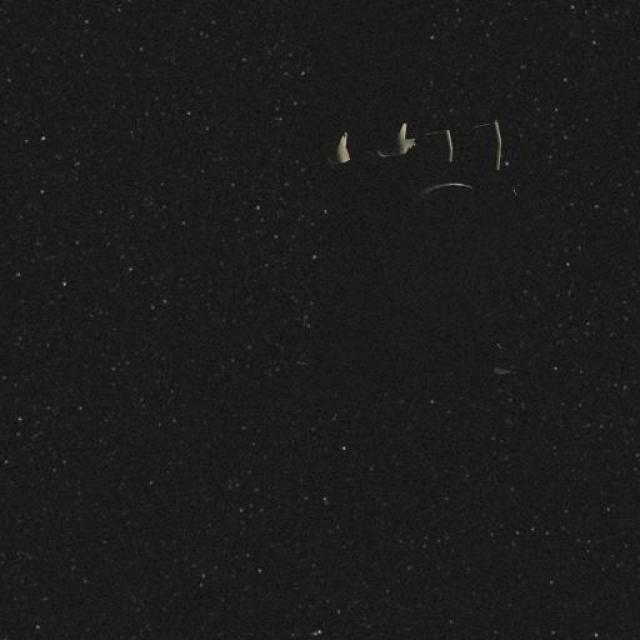proba_3_csc: (304, 50, 562, 326)
